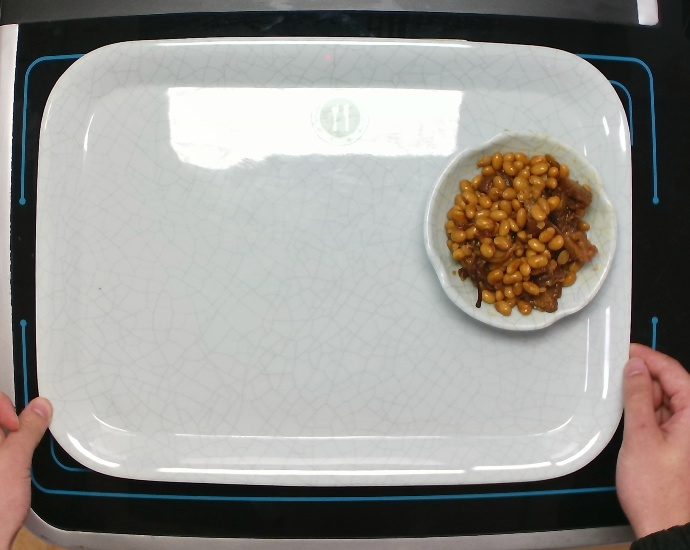JYsf-Ao_Yuan_Wan: (419, 128, 619, 335)
